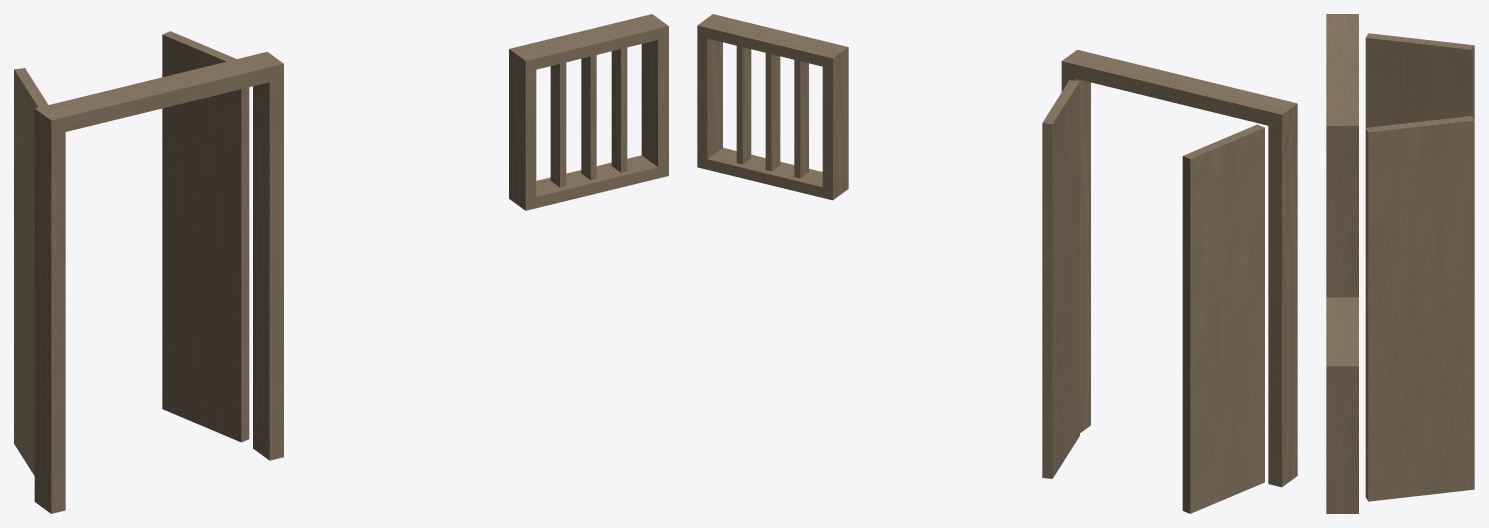
The model's file is open-light.glb.
3 views of the same model, side by side, from view 1: azimuth 30°, elevation 25°; view 2: azimuth 150°, elevation 25°; view 3: azimuth 270°, elevation 25° (orthographic). The views are drawn at different scales.
Parts seen in each view (by area): view 1: door_leaf_1, door_jamb_-1, door_jamb_1, door_leaf_-1, door_head, window_jamb_-1, window_jamb_1, window_rail_1.77, window_rail_1.03, window_vertical_0, window_vertical_2, window_vertical_1; view 2: door_leaf_-1, door_leaf_1, door_jamb_-1, door_head, door_jamb_1, window_jamb_-1, window_jamb_1, window_rail_1.77, window_rail_1.03, window_vertical_1, window_vertical_2, window_vertical_0; view 3: door_leaf_1, door_leaf_-1, door_jamb_1, window_jamb_1, door_head, window_rail_1.77, door_jamb_-1, window_jamb_-1.
Part boxes in pixels (x1,y1,x2,y2): door_leaf_1: (162, 31, 249, 442); door_jamb_-1: (34, 105, 65, 513); door_jamb_1: (253, 51, 283, 460); door_leaf_-1: (14, 68, 48, 475); door_head: (49, 55, 269, 131); window_jamb_-1: (509, 46, 536, 210); window_jamb_1: (641, 14, 668, 178); window_rail_1.77: (520, 16, 657, 69); window_rail_1.03: (536, 155, 657, 208); window_vertical_0: (550, 62, 566, 187); window_vertical_2: (611, 47, 627, 172); window_vertical_1: (581, 55, 596, 180); door_leaf_-1: (1182, 124, 1264, 513); door_leaf_1: (1042, 80, 1079, 478); door_jamb_-1: (1268, 100, 1297, 487); door_head: (1075, 53, 1283, 125); door_jamb_1: (1061, 49, 1090, 432); window_jamb_-1: (822, 44, 848, 200); window_jamb_1: (697, 14, 722, 169); window_rail_1.77: (707, 16, 837, 66); window_rail_1.03: (707, 147, 822, 197); window_vertical_1: (765, 53, 780, 171); window_vertical_2: (736, 46, 751, 164); window_vertical_0: (794, 60, 808, 178); door_leaf_1: (1365, 116, 1474, 501); door_leaf_-1: (1365, 33, 1474, 127); door_jamb_1: (1326, 119, 1358, 297); window_jamb_1: (1326, 361, 1358, 513); door_head: (1326, 21, 1358, 118); window_rail_1.77: (1326, 302, 1358, 360); door_jamb_-1: (1326, 14, 1358, 20); window_jamb_-1: (1326, 297, 1358, 302).
Bounding box in the file's own units: 3.45 × 2.1 × 0.7287.
Materials: 1 (1 with a texture image).
